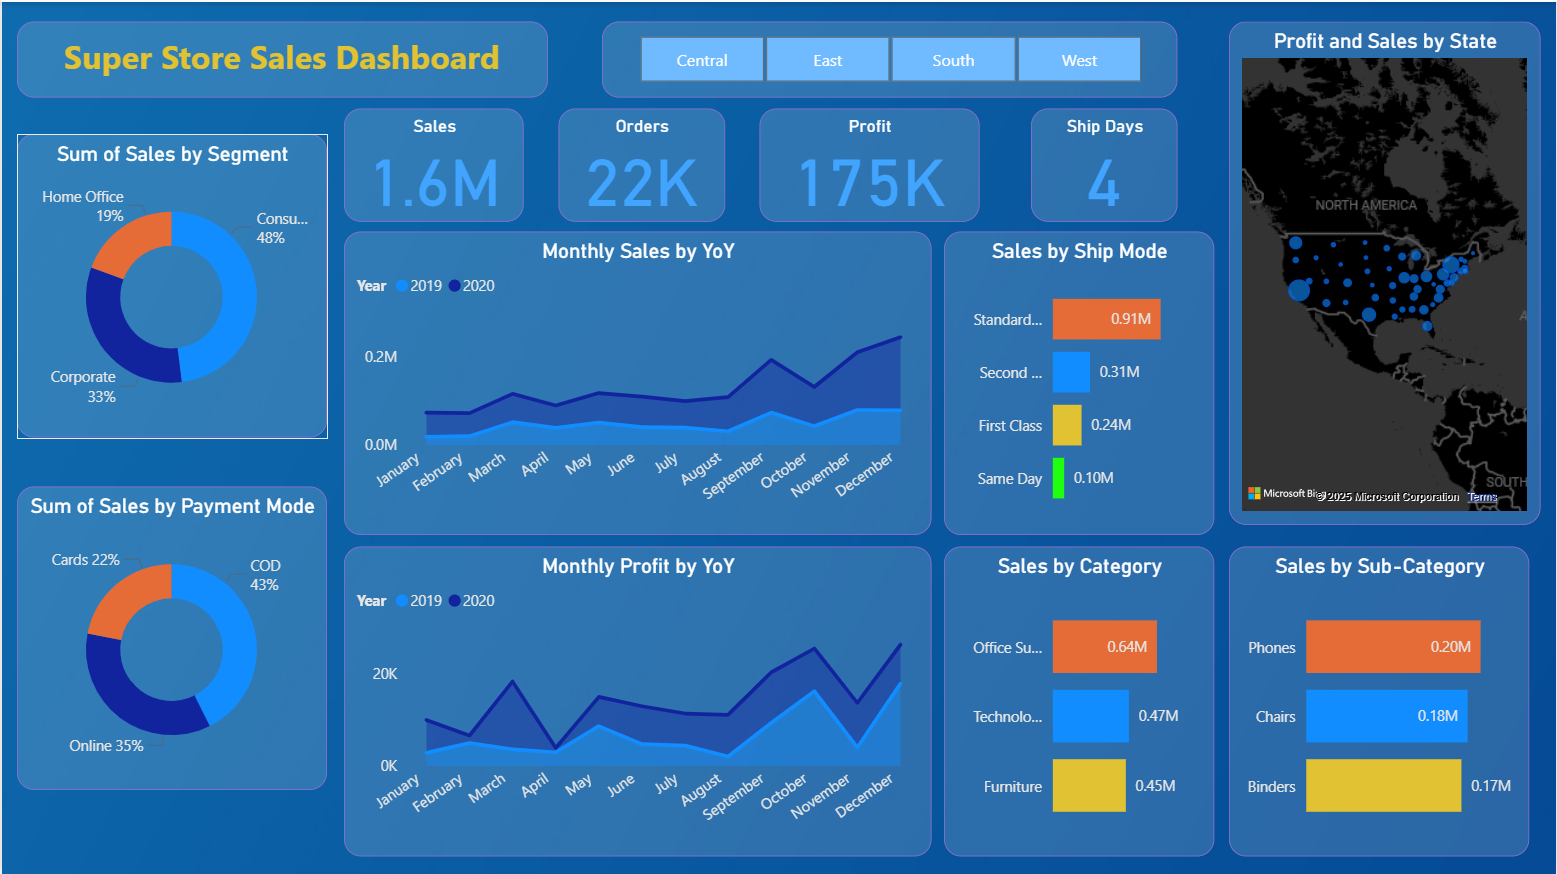

What the dashboard file says about the page in this screenshot:
{"tool":"powerbi","page":{"name":"Super Store Sales Dashboars","canvas":[1280,720],"ordinal":0},"visuals":[{"type":"clusteredBarChart","title":" Sales by Category","fields":{"Category":["SuperStore Sales DataSet by me.Category"],"Y":["Sum(SuperStore Sales DataSet by me.Sales)"]},"box":[775.6,448.8,222.5,255.2],"z":0},{"type":"clusteredBarChart","title":" Sales by Sub-Category","fields":{"Category":["SuperStore Sales DataSet by me.Sub-Category"],"Y":["Sum(SuperStore Sales DataSet by me.Sales)"]},"box":[1010.6,448.8,247.6,255.2],"z":1000},{"type":"clusteredBarChart","title":" Sales by Ship Mode","fields":{"Category":["SuperStore Sales DataSet by me.Ship Mode"],"Y":["Sum(SuperStore Sales DataSet by me.Sales)"]},"box":[775.6,188.6,222.5,250.1],"z":2000},{"type":"stackedAreaChart","title":"Monthly Sales by YoY","fields":{"Y":["Sum(SuperStore Sales DataSet by me.Sales)"],"Category":["SuperStore Sales DataSet by me.Order Date.Variation.Date Hierarchy.Month","SuperStore Sales DataSet by me.Order Date.Variation.Date Hierarchy.Day"],"Series":["SuperStore Sales DataSet by me.Order Date.Variation.Date Hierarchy.Year"]},"box":[281.6,188.6,484,250.1],"z":3000},{"type":"stackedAreaChart","title":"Monthly Profit by YoY","fields":{"Category":["SuperStore Sales DataSet by me.Order Date.Variation.Date Hierarchy.Month","SuperStore Sales DataSet by me.Order Date.Variation.Date Hierarchy.Day"],"Series":["SuperStore Sales DataSet by me.Order Date.Variation.Date Hierarchy.Year"],"Y":["Sum(SuperStore Sales DataSet by me.Profit)"]},"box":[281.6,448.8,484,255.2],"z":4000},{"type":"map","title":"Profit and Sales by State","fields":{"Category":["SuperStore Sales DataSet by me.State"],"Size":["Sum(SuperStore Sales DataSet by me.Sales)"]},"box":[1011.1,16.7,256.7,414.4],"z":5000},{"type":"donutChart","fields":{"Category":["SuperStore Sales DataSet by me.Segment"],"Y":["Sum(SuperStore Sales DataSet by me.Sales)"]},"box":[12.6,109.4,255.2,250.1],"z":6000},{"type":"donutChart","fields":{"Category":["SuperStore Sales DataSet by me.Payment Mode"],"Y":["Sum(SuperStore Sales DataSet by me.Sales)"]},"box":[12.6,399.7,255.2,250.1],"z":7000},{"type":"slicer","fields":{"Values":["SuperStore Sales DataSet by me.Region"]},"box":[494,16.3,473.9,62.9],"z":8000},{"type":"textbox","box":[12.6,16.3,437.4,62.9],"z":9000},{"type":"card","title":"Sales","fields":{"Values":["Sum(SuperStore Sales DataSet by me.Sales)"]},"box":[281.6,88,148.3,93],"z":10000},{"type":"card","title":"Orders","fields":{"Values":["Sum(SuperStore Sales DataSet by me.Quantity)"]},"box":[458.8,88,137,93],"z":11000},{"type":"card","title":"Profit","fields":{"Values":["Sum(SuperStore Sales DataSet by me.Profit)"]},"box":[623.5,88,181,93],"z":12000},{"type":"card","title":"Ship Days","fields":{"Values":["Avg(SuperStore Sales DataSet by me.AvgDelivery)"]},"box":[847.2,88,120.7,93],"z":13000}]}

Visuals, with their boxes in screenshot pixels (x1, y1, x2, y2), scaled from the page's 1280x720 canvas onto the 1557x874 screenshot:
" Sales by Category" clusteredBarChart: <region>943, 545, 1214, 855</region>
" Sales by Sub-Category" clusteredBarChart: <region>1229, 545, 1530, 855</region>
" Sales by Ship Mode" clusteredBarChart: <region>943, 229, 1214, 533</region>
"Monthly Sales by YoY" stackedAreaChart: <region>343, 229, 931, 533</region>
"Monthly Profit by YoY" stackedAreaChart: <region>343, 545, 931, 855</region>
"Profit and Sales by State" map: <region>1230, 20, 1542, 523</region>
donutChart - SuperStore Sales DataSet by me.Segment x Sum(SuperStore Sales DataSet by me.Sales): <region>15, 133, 326, 436</region>
donutChart - SuperStore Sales DataSet by me.Payment Mode x Sum(SuperStore Sales DataSet by me.Sales): <region>15, 485, 326, 789</region>
slicer - SuperStore Sales DataSet by me.Region: <region>601, 20, 1177, 96</region>
textbox: <region>15, 20, 547, 96</region>
"Sales" card: <region>343, 107, 523, 220</region>
"Orders" card: <region>558, 107, 725, 220</region>
"Profit" card: <region>758, 107, 979, 220</region>
"Ship Days" card: <region>1031, 107, 1177, 220</region>
